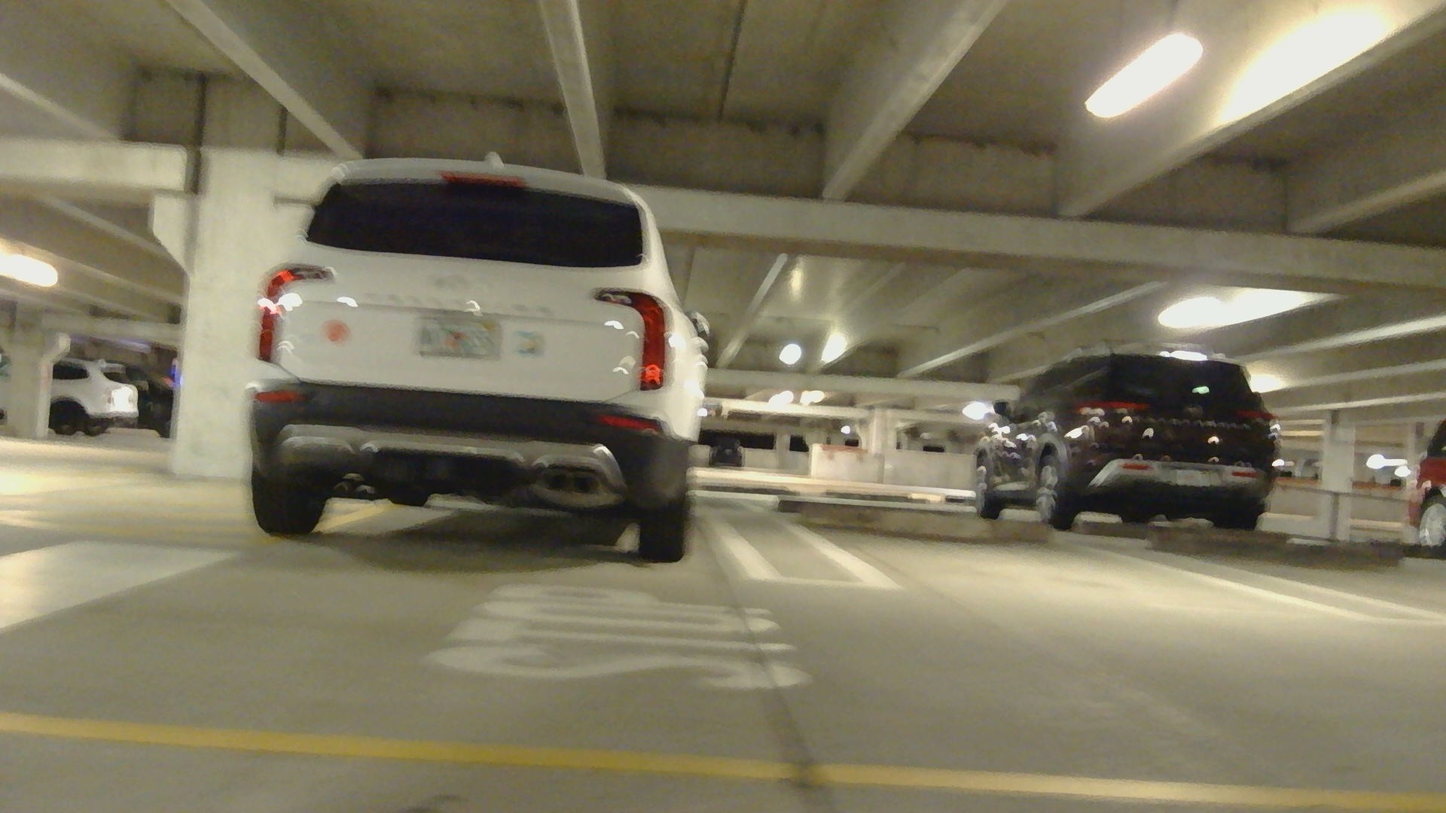empty_spot: (796, 500, 1376, 626)
occupied_spot: (245, 153, 720, 563)
